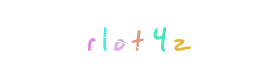4: (106, 0, 186, 80)
L: (96, 0, 176, 80)
O: (99, 0, 179, 80)
R: (69, 0, 149, 80)
T: (103, 0, 183, 80)
Z: (140, 0, 220, 80)
